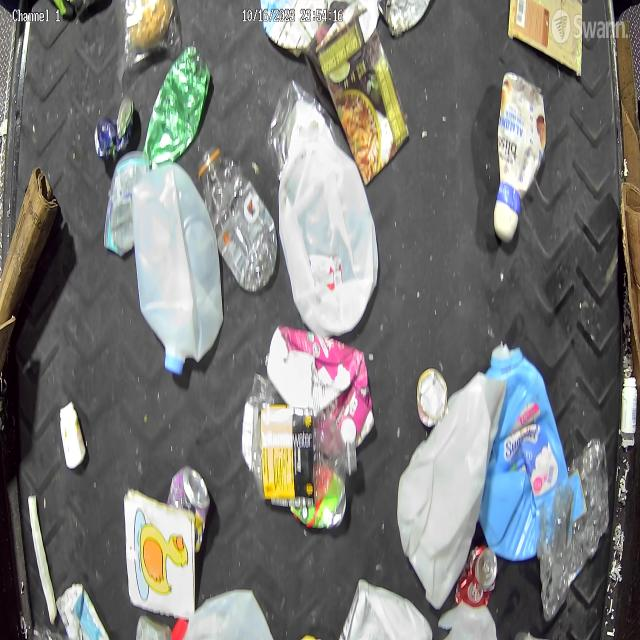can: (170, 467, 210, 552), (460, 544, 498, 614), (94, 98, 136, 158), (414, 367, 448, 431)
milk_jug: (400, 367, 497, 609), (278, 112, 378, 336), (135, 158, 221, 378), (338, 578, 432, 640), (175, 588, 282, 640), (437, 601, 499, 639)
non_white_jug: (481, 341, 569, 562), (266, 327, 375, 453)
plastic_bottle: (198, 146, 278, 291), (252, 406, 358, 502)
